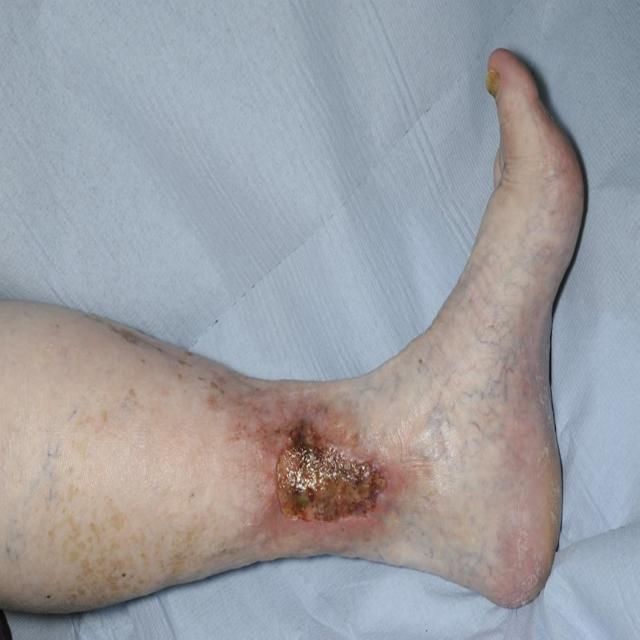wound: (274, 420, 387, 524)
